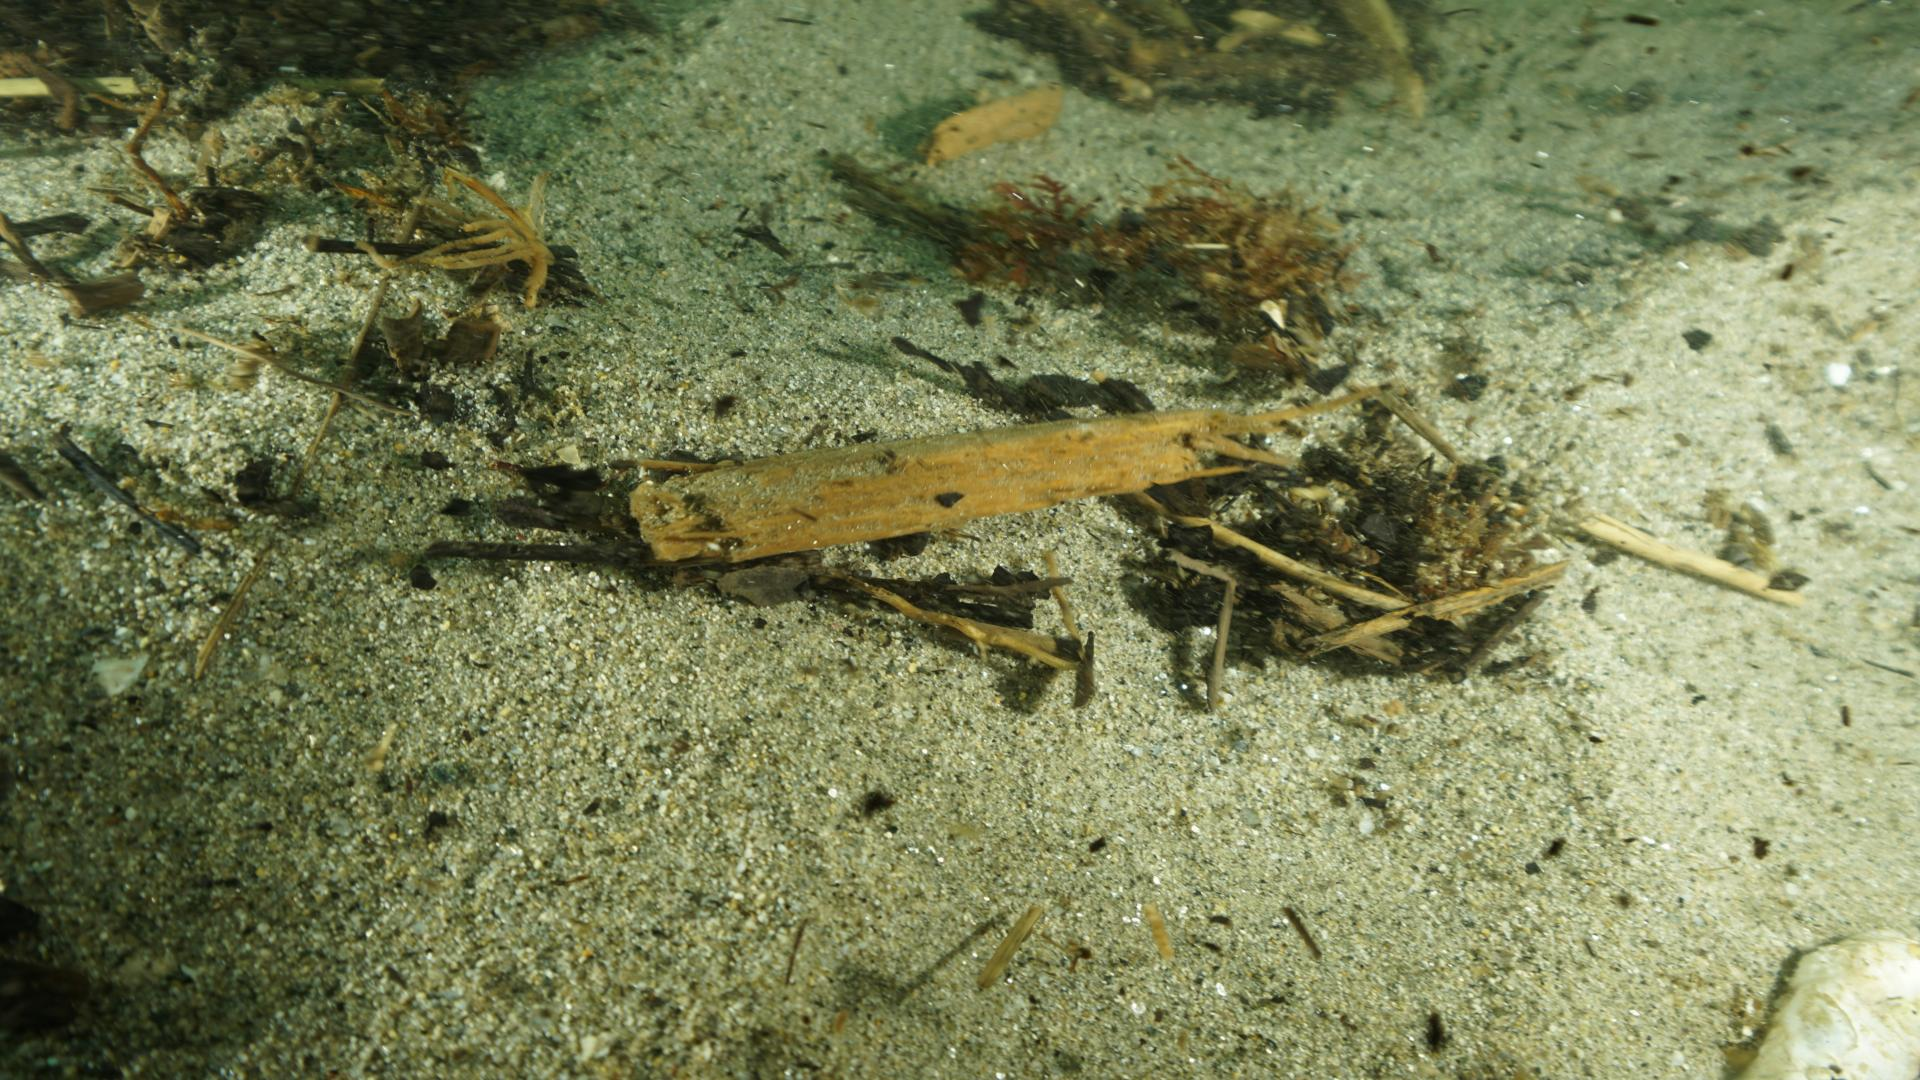wood: (628, 402, 1226, 563)
